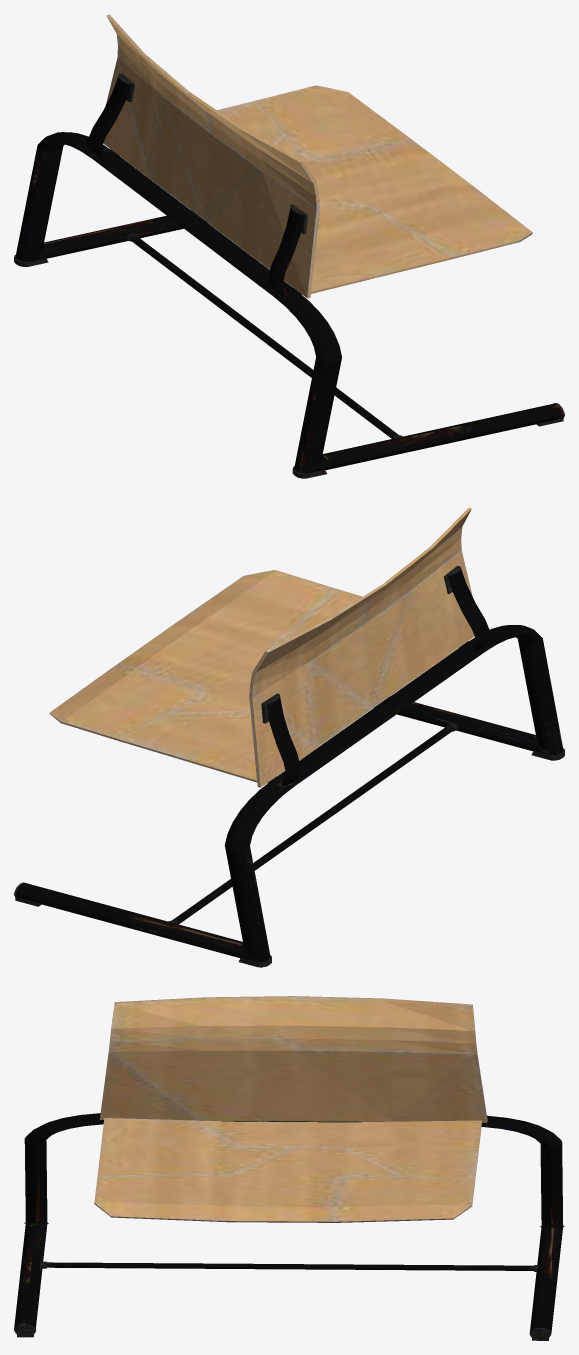
File: chair_16.glb
The picture shows the model from 3 angles, top to bottom: view 1: azimuth 30°, elevation 25°; view 2: azimuth 150°, elevation 25°; view 3: azimuth 270°, elevation 25°; orthographic projection. The views are drawn at different scales.
Parts seen in each view (by area): view 1: chair_16; view 2: chair_16; view 3: chair_16.
Part boxes in pixels (box(x1,y1,x2,y2)): chair_16: box(14, 14, 564, 478); chair_16: box(14, 507, 564, 967); chair_16: box(14, 996, 564, 1340).
Size of the model in its own units: 1.35 by 1.22 by 2.51.
1 material, 1 textured.
